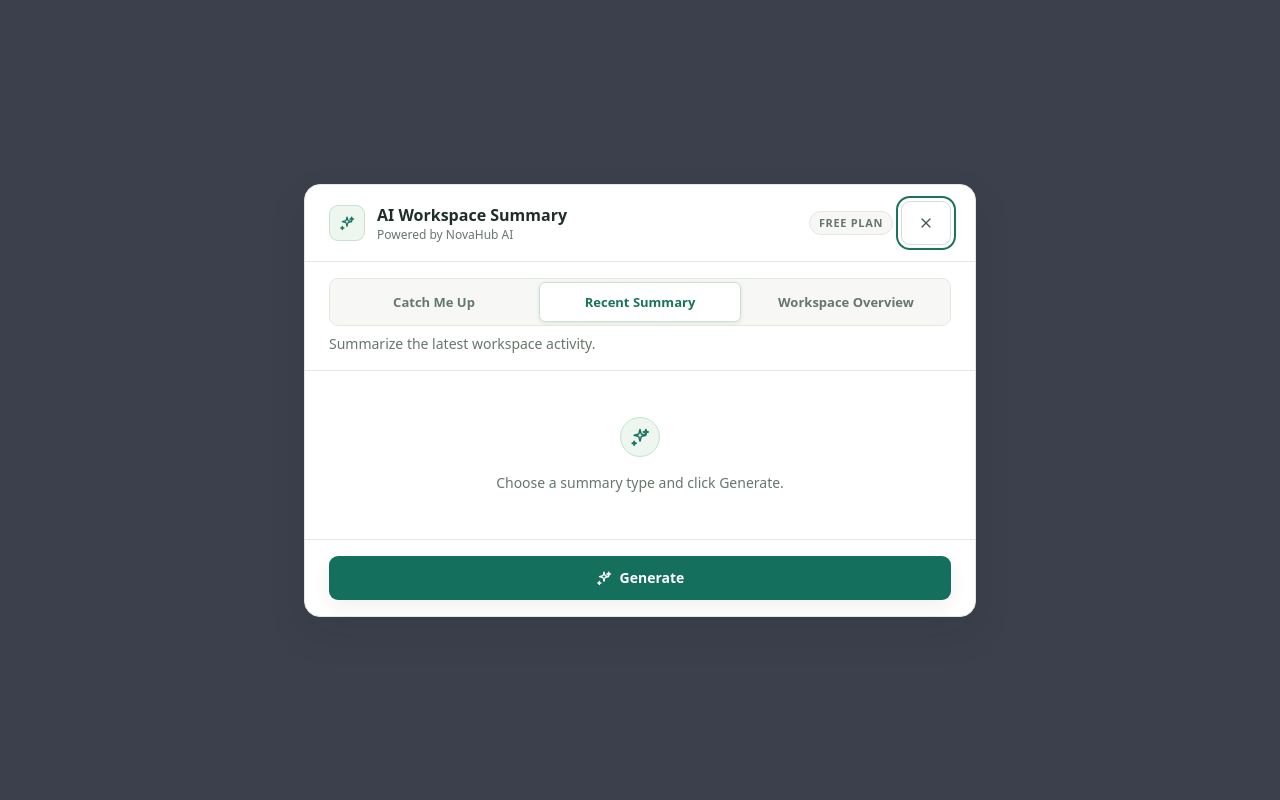
Test: AiSummaryDialog — result display › 13. truncated coverage warning renders
Step 1. Click the button "Generate" → (640, 578), box [329,556,951,600]
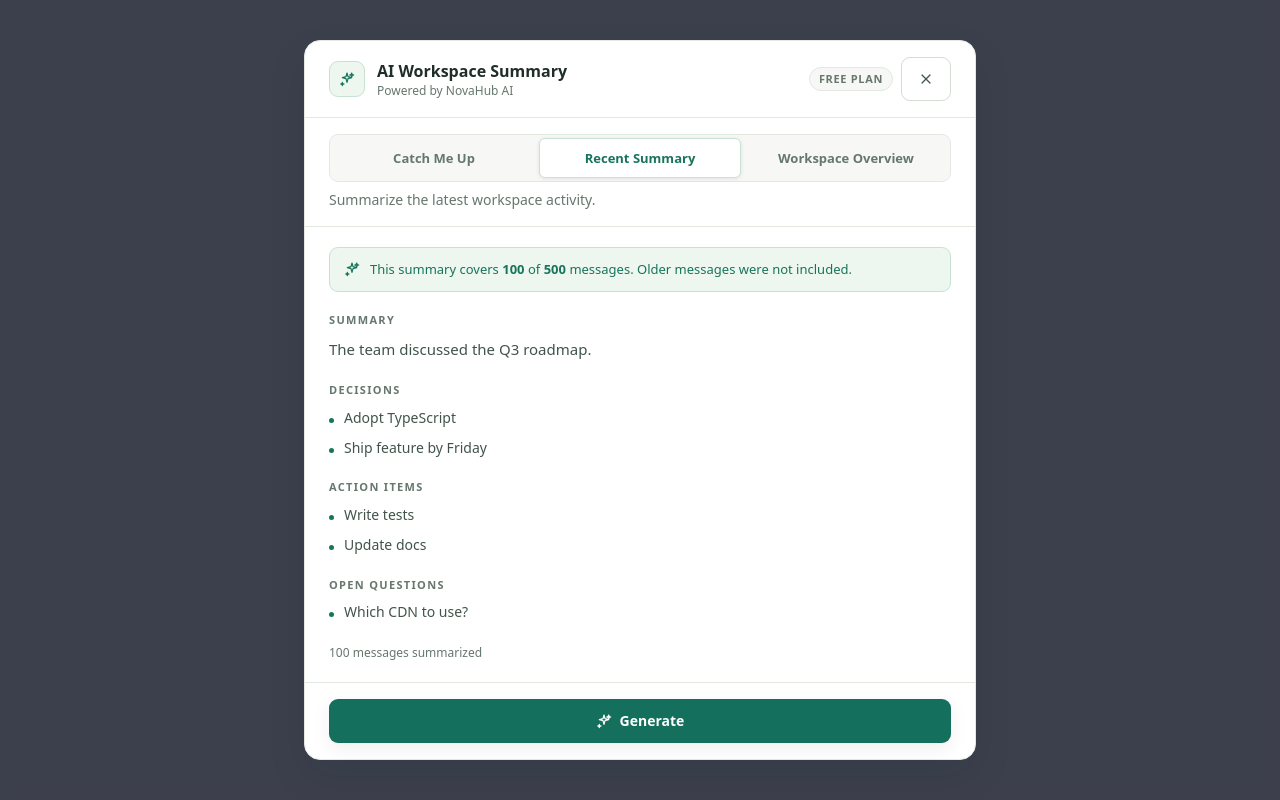
Expected: the element that starts with "This summary covers" is shown, [329,247,951,292]
Expected: the text "Older messages were not included" is shown, [569,260,852,278]
